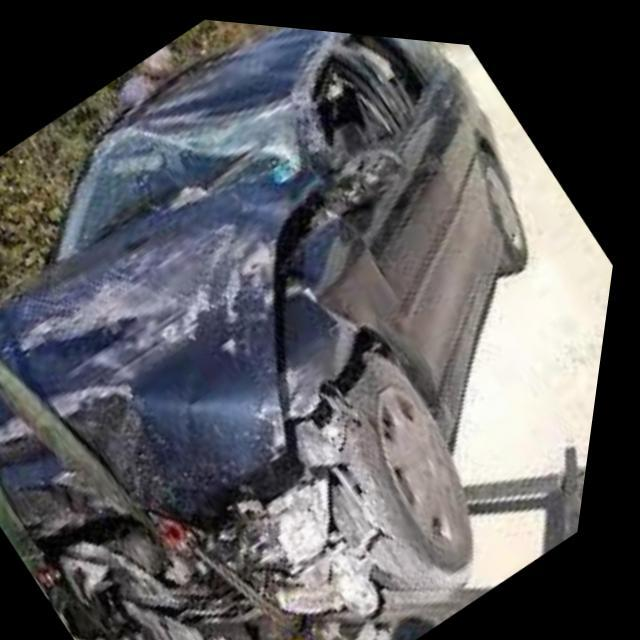crash: (0, 25, 412, 640)
